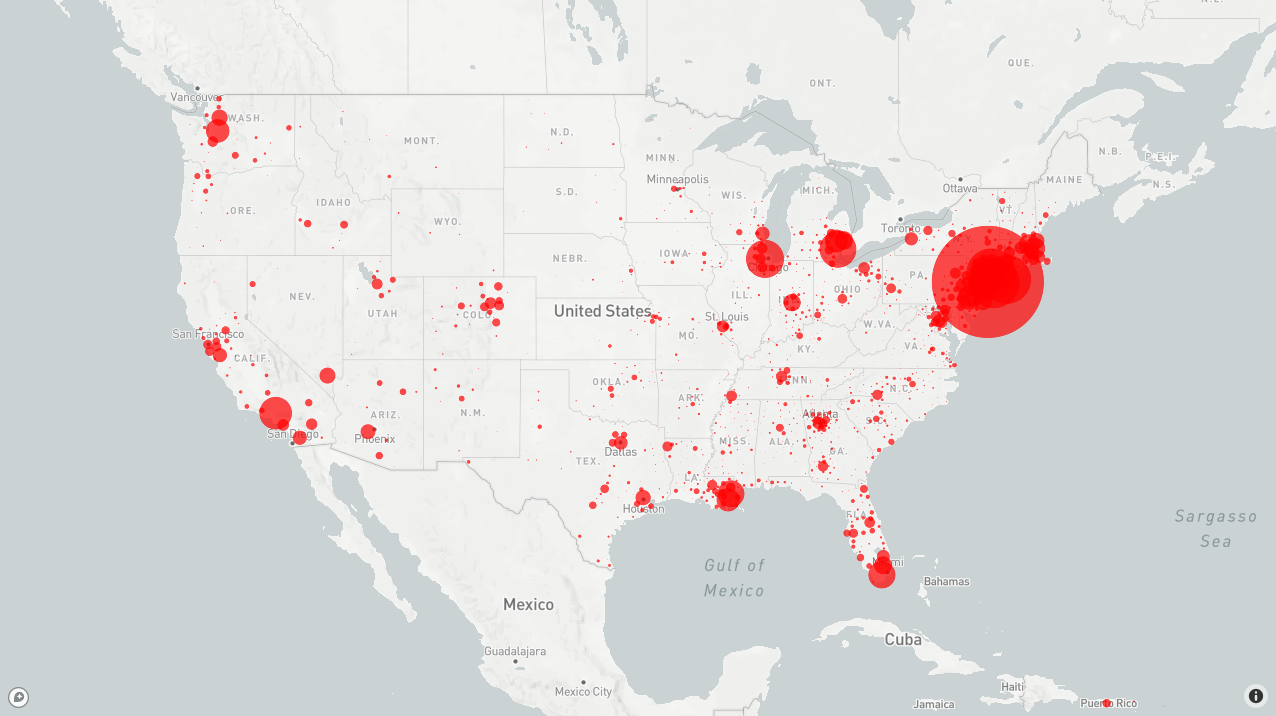

What the dashboard file says about the page in this screenshot:
{"tool":"powerbi","page":{"name":"Locations","canvas":[1280,720],"ordinal":2},"visuals":[{"type":"map","title":"Accommodation heatmap","fields":{"Y":["Sum(seattle_01.latitude)"],"X":["Sum(seattle_01.longitude)"],"Category":["seattle_01.name"]},"box":[0,0,1280,719.8],"z":0}]}

Visuals, with their boxes in screenshot pixels (x1, y1, x2, y2), scaled from the page's 1280x720 canvas onto the 1276x716 screenshot:
"Accommodation heatmap" map: [x1=0, y1=0, x2=1275, y2=715]
